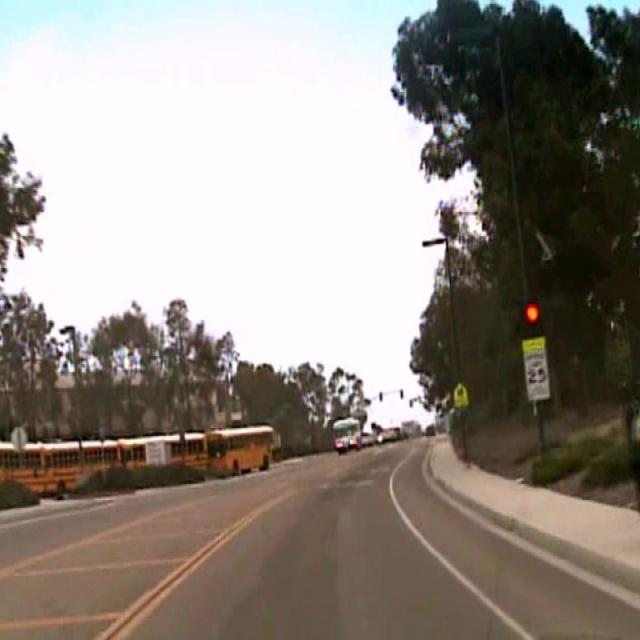speedLimit25: (522, 336, 550, 401)
